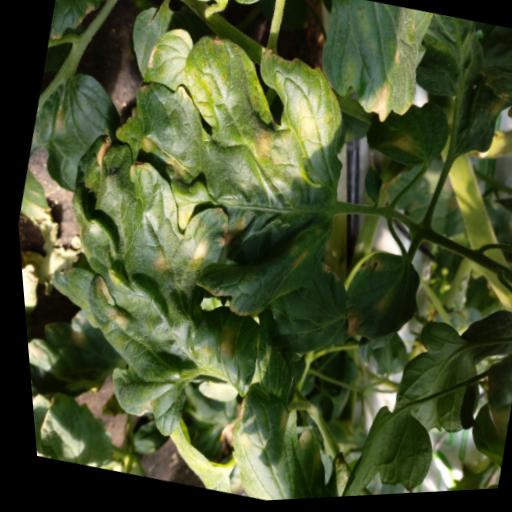Leaf Mold: (67, 12, 375, 343), (51, 258, 310, 471), (47, 120, 250, 307), (302, 0, 443, 141)
